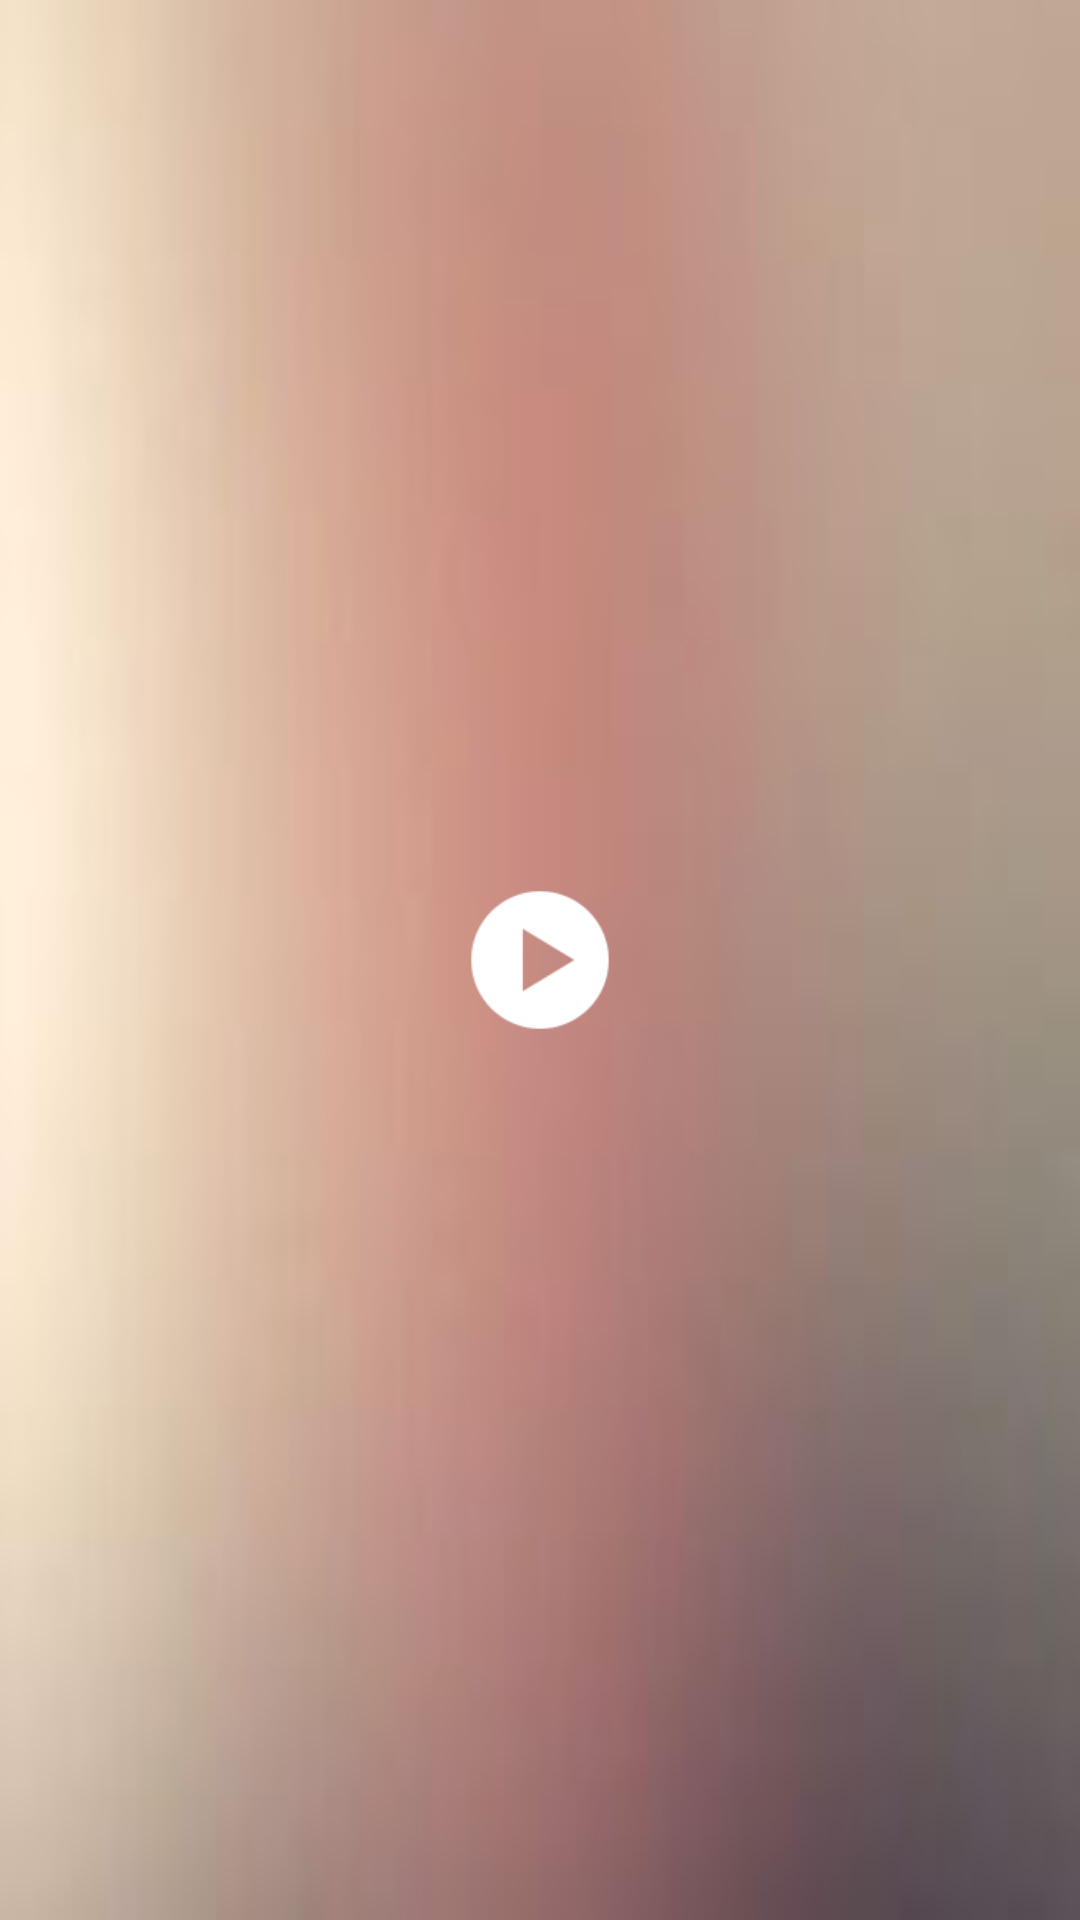

Icons on this 1080x1920 Android screen, each with the point to tap as point (x, y):
player: point (540, 960)
